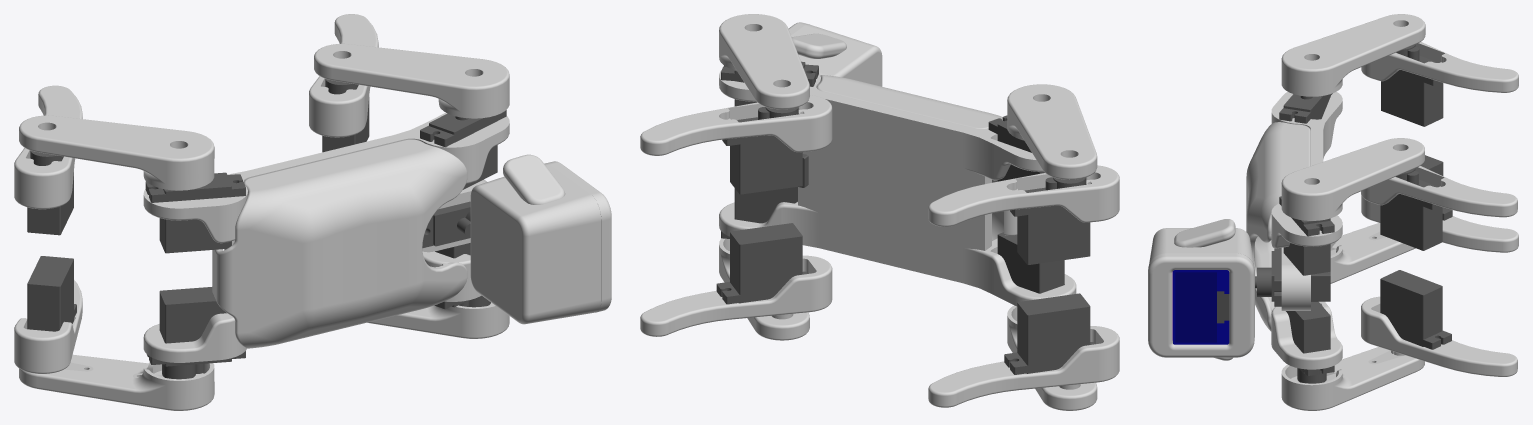
Rendered from tobi.gltf.
3 renders of one model, left to right at view 1: azimuth 30°, elevation 25°; view 2: azimuth 150°, elevation 25°; view 3: azimuth 270°, elevation 25°, orthographic. The views are drawn at different scales.
Visible parts, largest first — view 1: Part 2 (×4), Leg1 (×4), Servo PRO MG90S (×8), Part 1 (×2), Part 2-Mirrored; view 2: Part 1, Servo PRO MG90S (×8), Part 2 (×4), Leg1 (×4), Part 2-Mirrored (×2); view 3: Leg1 (×4), Servo PRO MG90S (×8), Part 2 (×4), Part 1 (×2), Part 2-Mirrored (×2), SH1106.
Part boxes in pixels (x1,y1,x2,y2): Part 2 (×4): (14,14,601,348); Leg1 (×4): (19,43,509,410); Servo PRO MG90S (×8): (27,79,506,379); Part 1 (×2): (143,112,611,362); Part 2-Mirrored: (14,280,82,373); Part 1: (719,70,1076,306); Servo PRO MG90S (×8): (716,61,1094,374); Part 2 (×4): (640,24,1119,240); Leg1 (×4): (719,14,1097,410); Part 2-Mirrored (×2): (640,255,1119,407); Leg1 (×4): (1281,14,1425,410); Servo PRO MG90S (×8): (1255,44,1452,383); Part 2 (×4): (1149,42,1518,360); Part 1 (×2): (1148,91,1342,369); Part 2-Mirrored (×2): (1361,195,1518,376); SH1106: (1172,270,1229,344).
Size of the model in its own units: 0.1864 by 0.098 by 0.1515.
